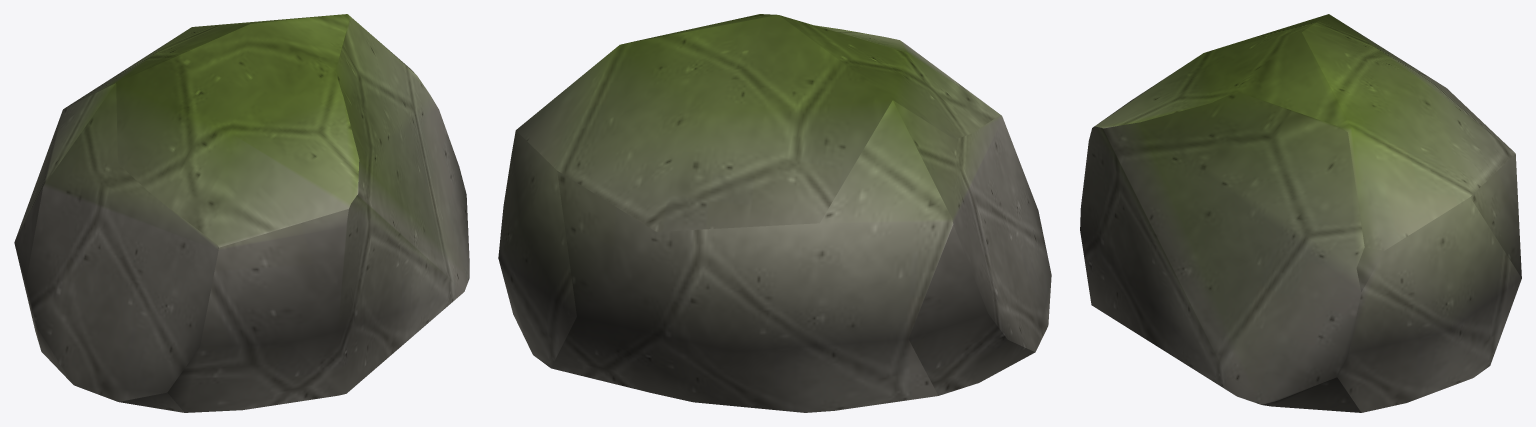
The model's file is rock_field_a.glb.
The picture shows the model from 3 angles, left to right: view 1: azimuth 30°, elevation 25°; view 2: azimuth 150°, elevation 25°; view 3: azimuth 270°, elevation 25°; orthographic projection. The views are drawn at different scales.
Visible parts, largest first — view 1: rock_field_a; view 2: rock_field_a; view 3: rock_field_a.
Boxes of the visible parts, <box> form: rock_field_a: <box>14,14,469,412</box>; rock_field_a: <box>498,14,1051,412</box>; rock_field_a: <box>1080,14,1521,412</box>.
Bounding box in the file's own units: 1.17 × 0.7164 × 1.03.
1 material, 1 textured.
